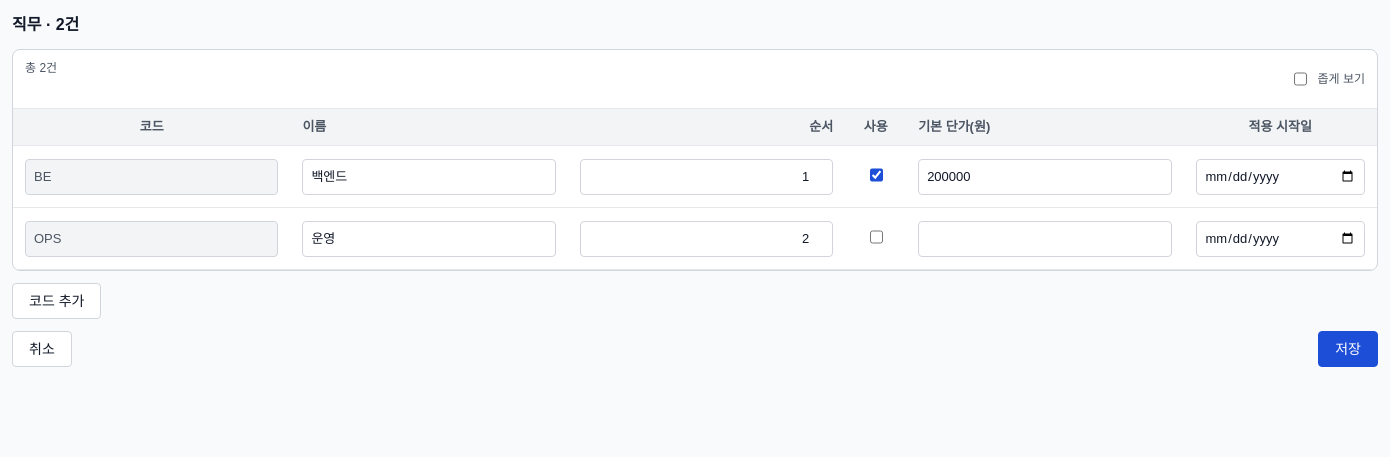
Test case: UI-27 code contract › BIZ new row uses max plus one and empty required draft is not saved
expect the field named "이름 1" is shown: met, box [302,158,556,194]
Click the button "코드 추가".
click(57, 301)  # box [12,283,101,319]
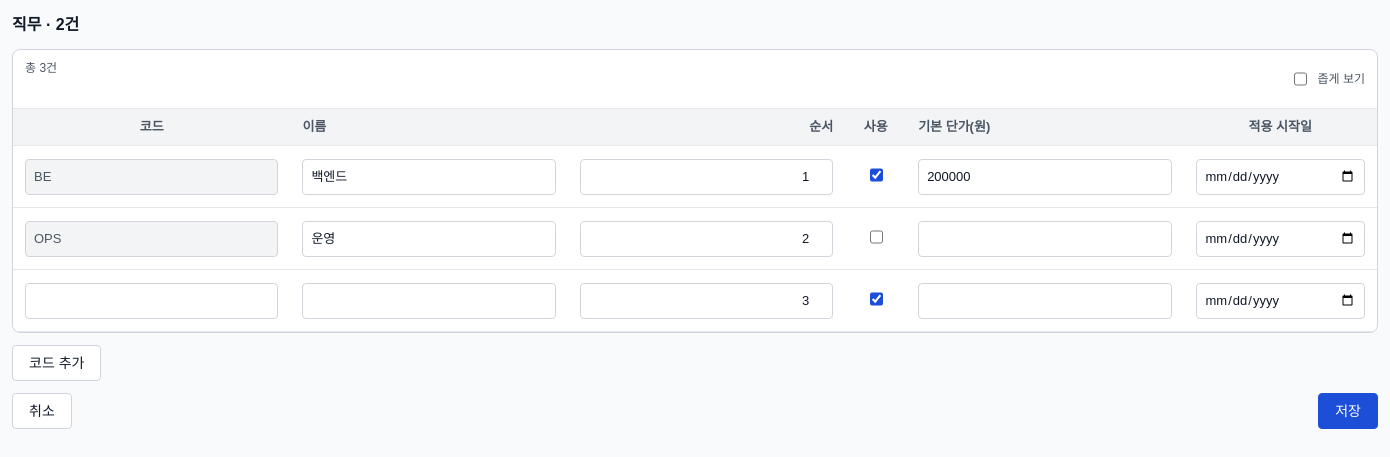
expect the number field named "순서 3" holds "3": met, box [580,282,833,318]
Click the button "저장".
click(1348, 411)  # box [1318,393,1378,429]
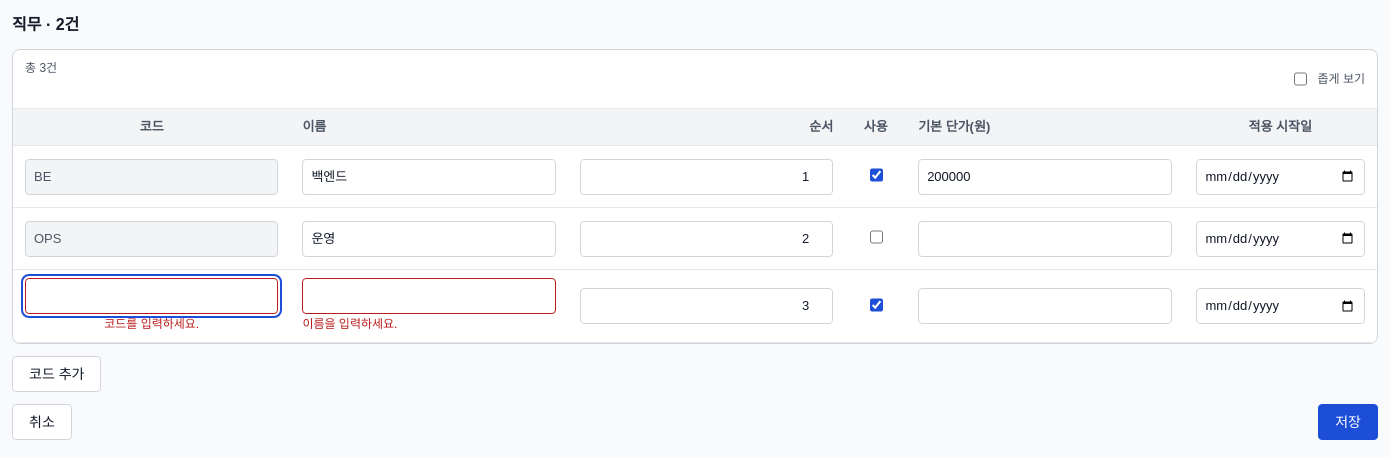
expect the text "코드를 입력하세요." is shown: met, box [104,317,199,331]
